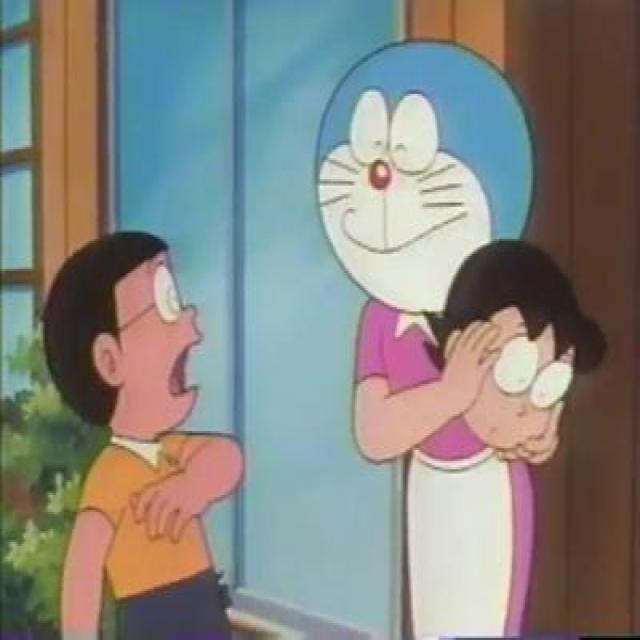doraemon: (307, 34, 538, 322)
nobita: (35, 226, 206, 446)
